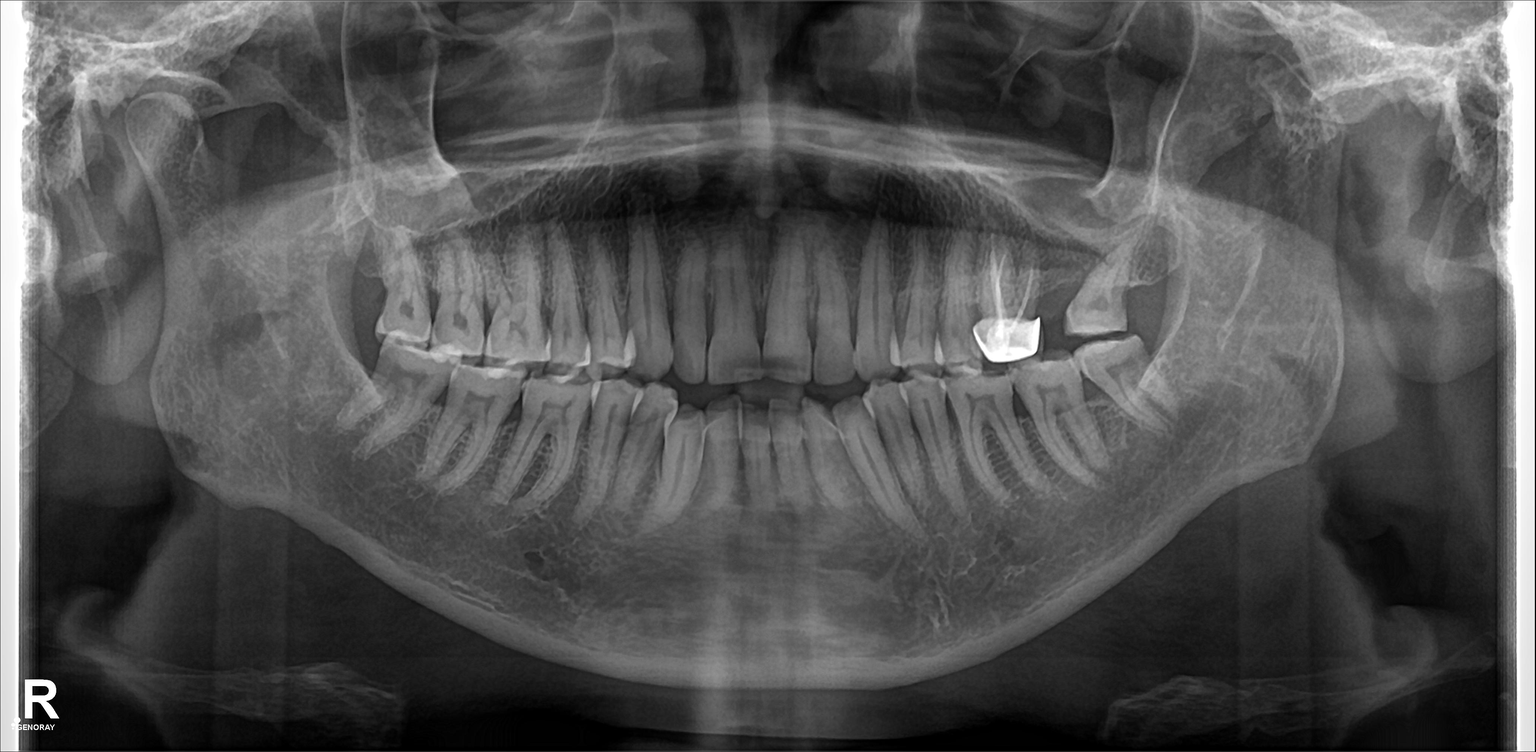Endodontically Treated Tooth: (978, 240, 1040, 353)
Missing Tooth: (335, 244, 380, 329), (1123, 236, 1164, 323), (1043, 242, 1071, 343)
